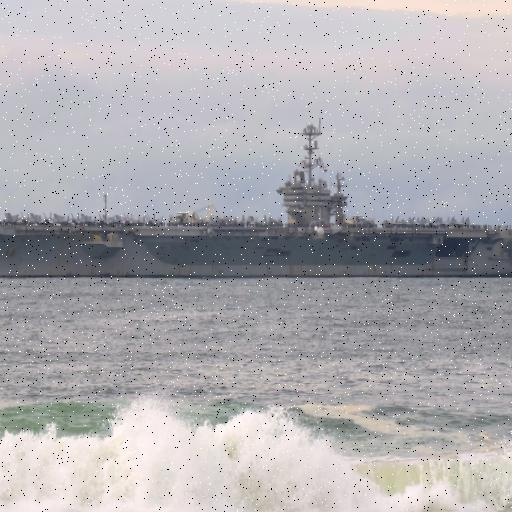Portanaves: (1, 108, 512, 287)
